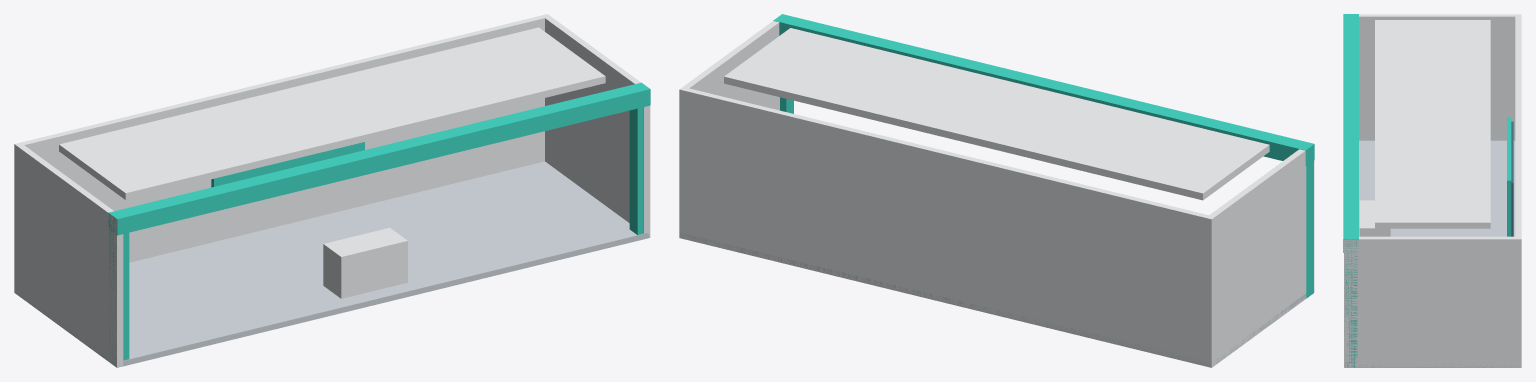
3 renders of one model, left to right at view 1: azimuth 30°, elevation 25°; view 2: azimuth 150°, elevation 25°; view 3: azimuth 270°, elevation 25°, orthographic. The views are drawn at different scales.
Parts seen in each view (by area): view 1: Exhibition Booth Concept; view 2: Exhibition Booth Concept; view 3: Exhibition Booth Concept.
Part boxes in pixels (box(x1,y1,x2,y2)): Exhibition Booth Concept: box(14, 14, 650, 367); Exhibition Booth Concept: box(679, 14, 1314, 367); Exhibition Booth Concept: box(1343, 14, 1521, 367).
Bounding box in the file's own units: 12 × 3.34 × 4.02.
